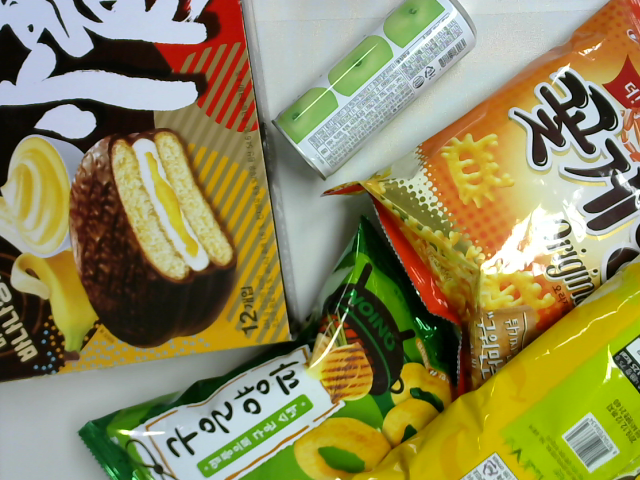Banana_Kick: (353, 250, 639, 480)
Choco_Pie_Banana: (1, 1, 307, 386)
Crabrang: (321, 3, 640, 399)
Demisoda_Apple_Can_250ml: (270, 1, 482, 187)
Grilled_Onions: (74, 214, 455, 480)
